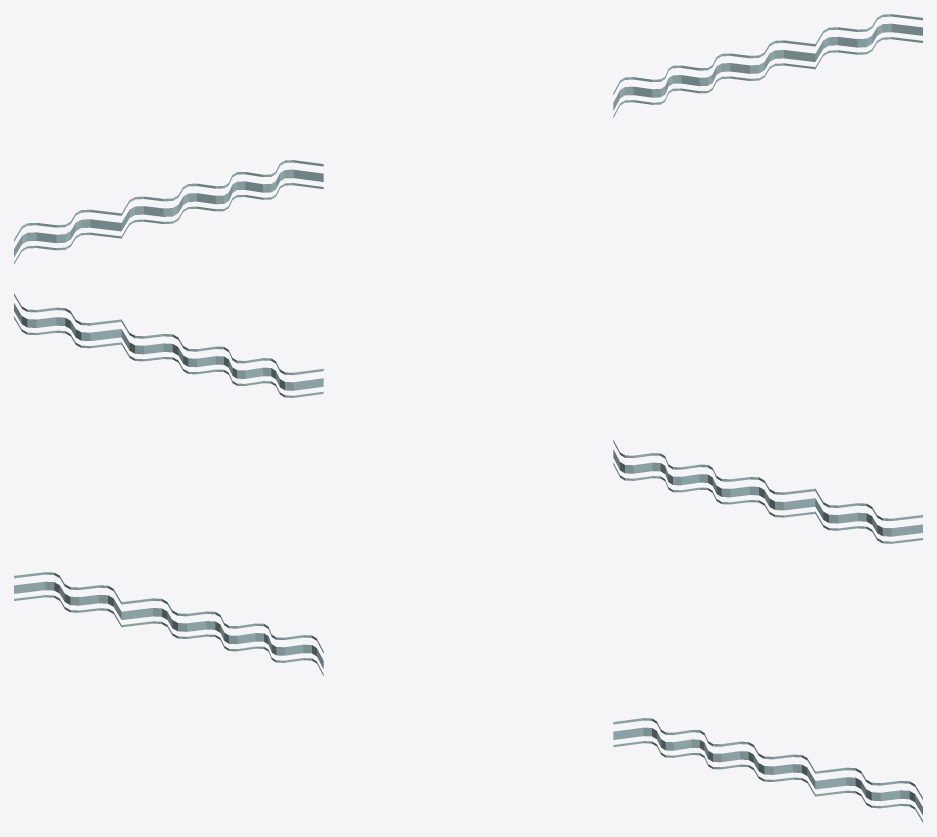
The model's file is resto_ni_teo_4.obj.
3 renders of one model, top to bottom at view 1: azimuth 30°, elevation 25°; view 2: azimuth 150°, elevation 25°; view 3: azimuth 330°, elevation 25°, orthographic.
Size of the model in its own units: 9.09 by 0.2409 by 0.2329.
